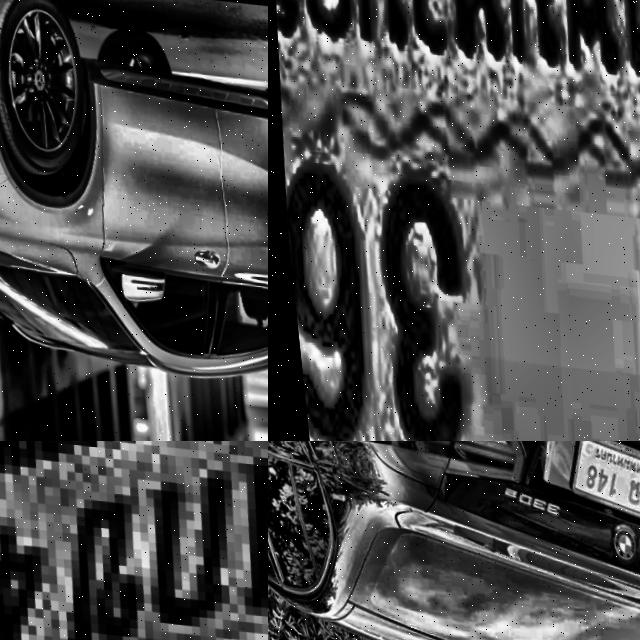license-plate: (268, 0, 640, 441), (0, 441, 268, 640), (555, 441, 640, 527)
